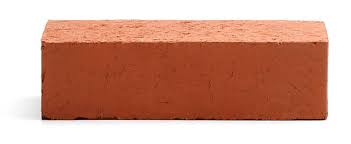brick: (41, 41, 329, 120)
